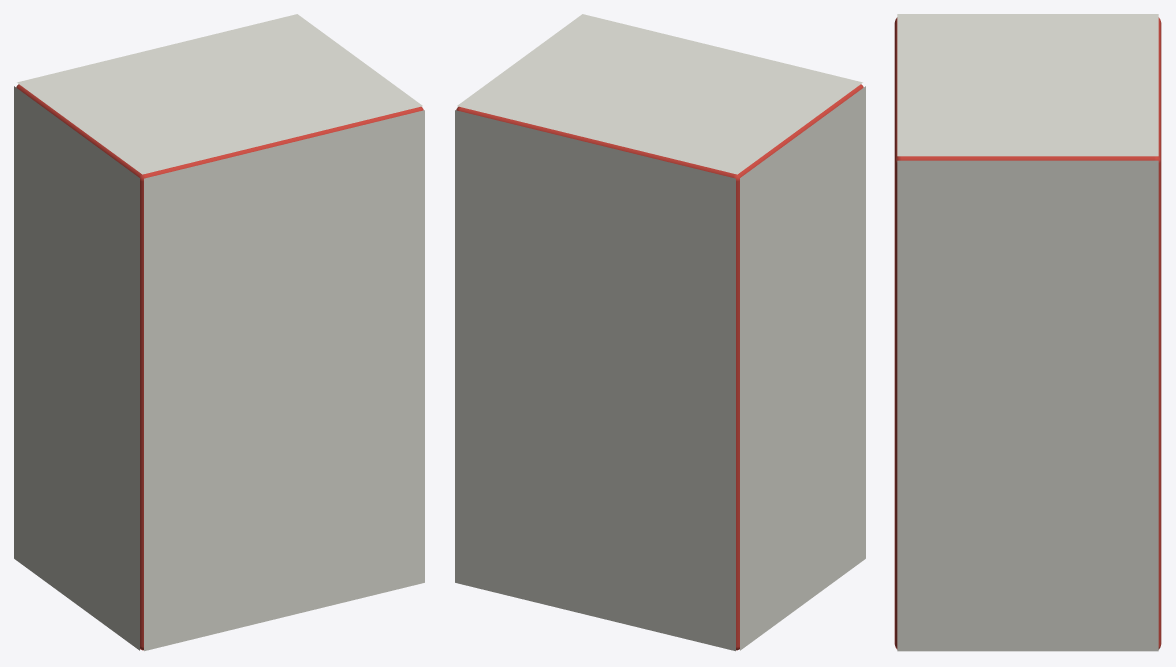
Rendered from fruit_box.glb.
3 renders of one model, left to right at view 1: azimuth 30°, elevation 25°; view 2: azimuth 150°, elevation 25°; view 3: azimuth 270°, elevation 25°, orthographic. The views are drawn at different scales.
Visible parts, largest first — view 1: LabelFront, LabelLeft, LabelTop, Carton; view 2: LabelBack, LabelLeft, LabelTop, Carton; view 3: LabelRight, LabelTop, Carton.
Boxes of the visible parts, x1,y1,x2,y2 form: LabelFront: (144, 110, 424, 651); LabelLeft: (14, 86, 139, 650); LabelTop: (17, 14, 422, 174); Carton: (16, 84, 423, 650); LabelBack: (455, 110, 735, 651); LabelLeft: (740, 86, 865, 650); LabelTop: (457, 14, 862, 174); Carton: (456, 84, 863, 650); LabelRight: (897, 160, 1158, 651); LabelTop: (897, 14, 1158, 156); Carton: (894, 17, 1161, 649).
Bounding box in the file's own units: 1 × 1.6 × 0.784.
